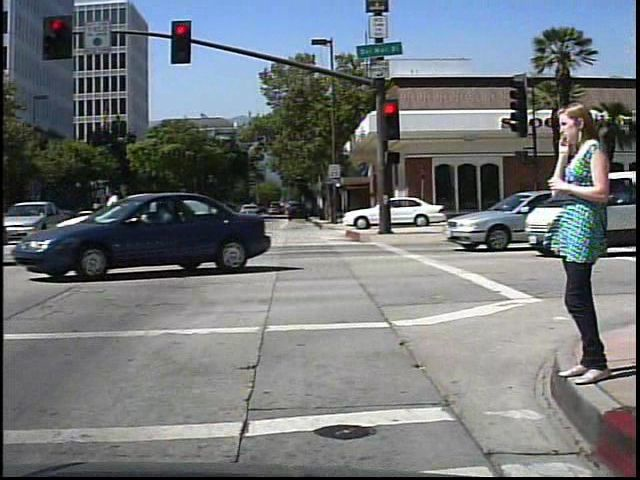person: (545, 93, 612, 396)
